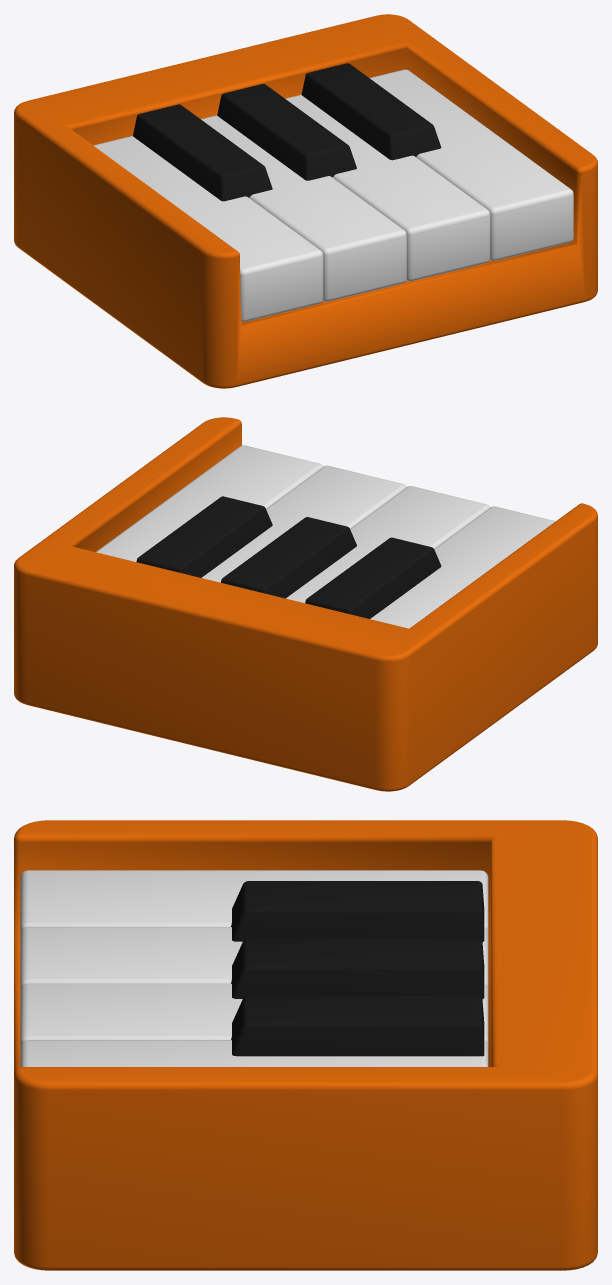
File: piano.glb
3 views of the same model, one above another, from view 1: azimuth 30°, elevation 25°; view 2: azimuth 150°, elevation 25°; view 3: azimuth 270°, elevation 25° (orthographic). The views are drawn at different scales.
Visible parts, largest first — view 1: Cube.002; view 2: Cube.002; view 3: Cube.002.
Part boxes in pixels (bbox=[...]): Cube.002: bbox=[14, 14, 597, 388]; Cube.002: bbox=[14, 417, 597, 791]; Cube.002: bbox=[14, 820, 597, 1270].
Bounding box in the file's own units: 5.76 × 1.9 × 5.33.
